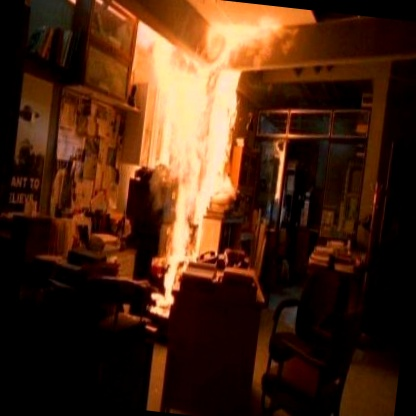fire: (104, 0, 277, 333)
